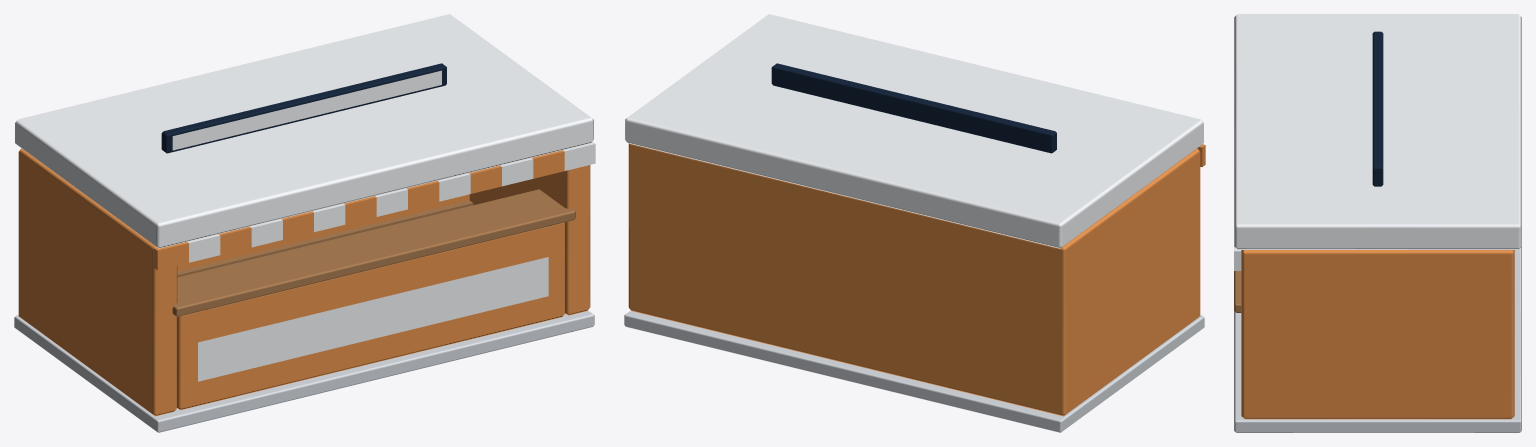
The model's file is CM_Prop_PlazaKiosk_Orange.fbx.
3 views of the same model, side by side, from view 1: azimuth 30°, elevation 25°; view 2: azimuth 150°, elevation 25°; view 3: azimuth 270°, elevation 25° (orthographic).
Parts seen in each view (by area): view 1: Body, Face; view 2: Body, Face; view 3: Body, Face.
Part boxes in pixels (x1,y1,x2,y2): Body: (14,14,595,432); Face: (161,63,446,153); Body: (624,14,1205,432); Face: (771,63,1056,153); Body: (1234,14,1521,432); Face: (1372,31,1383,186).
Bounding box in the file's own units: 14 × 8 × 7.
Materials: 1 (1 with a texture image).
